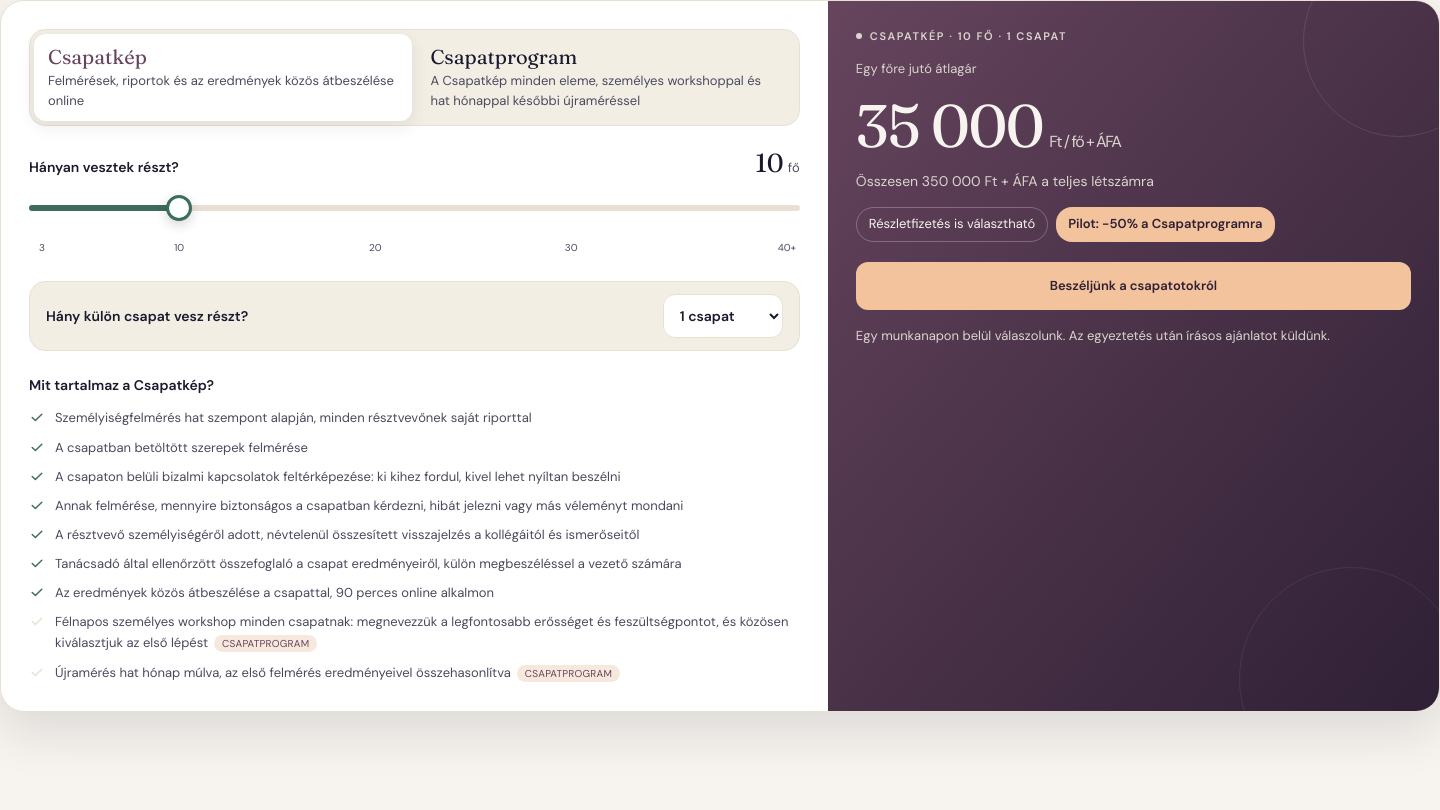
it: TeamPricingConfigurator › a csúszka végén (40+) szám helyett egyedi ajánlatot kínál
Set the slider to "41" at (792, 208), box [29,186,800,230]
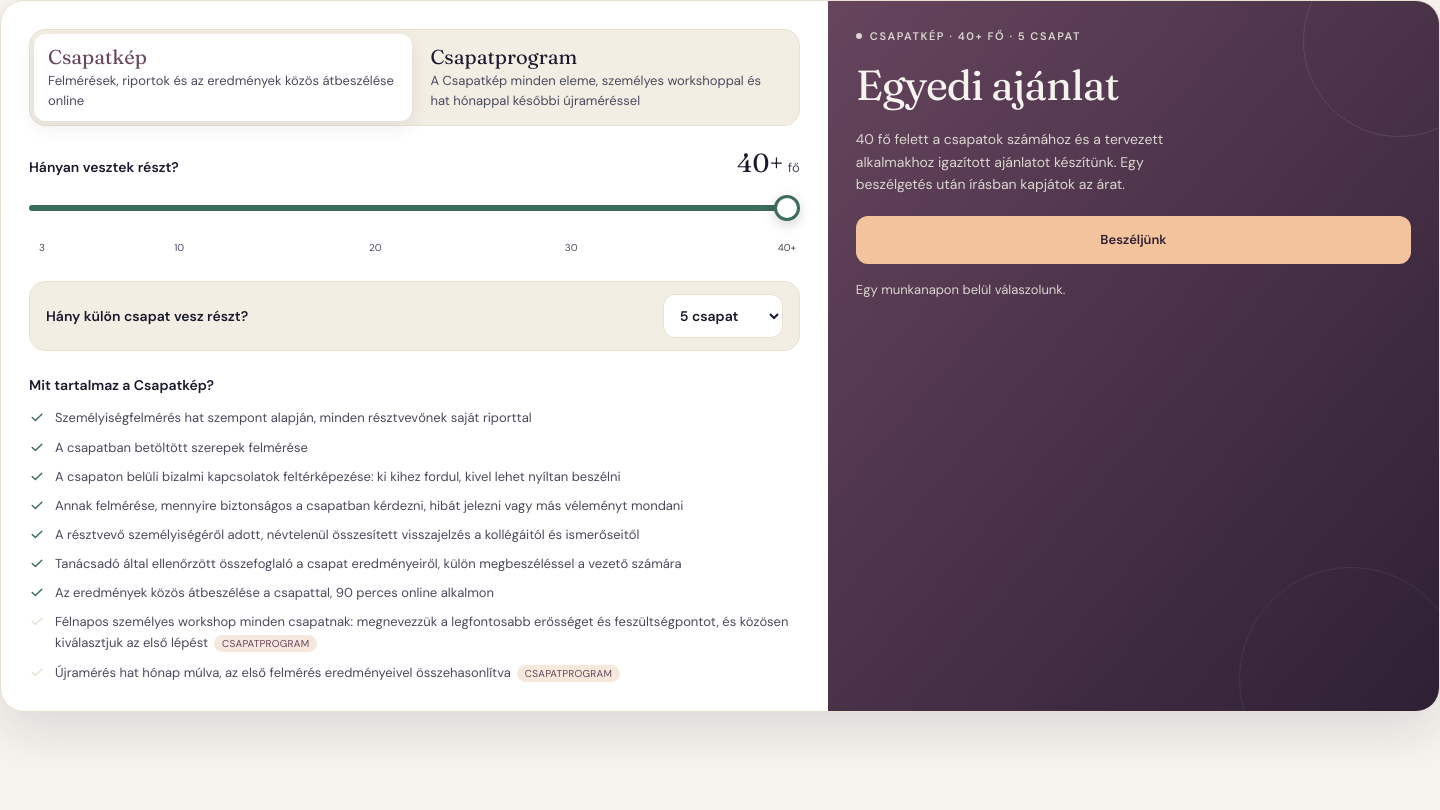
Now the text "Egyedi ajánlat" is shown, box [856,59,1119,111]
Now the text "Összesen 350 000 Ft + ÁFA a teljes létszámra" is gone
